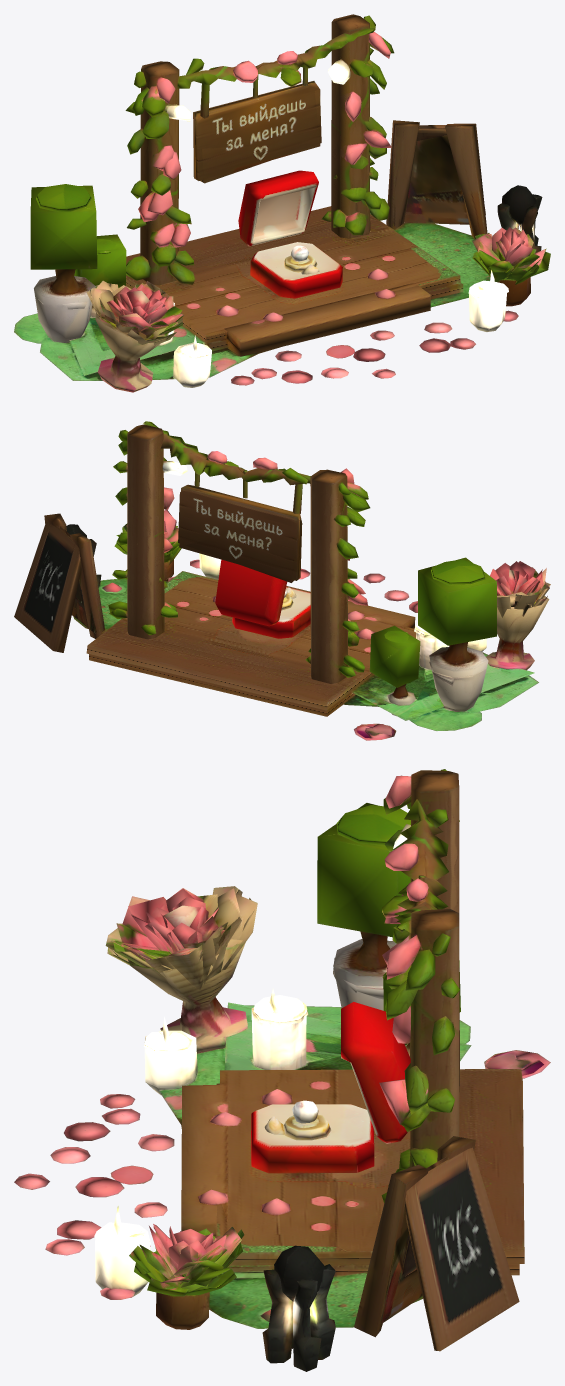
The model's file is Predlozhenie.glb.
The picture shows the model from 3 angles, top to bottom: view 1: azimuth 30°, elevation 25°; view 2: azimuth 150°, elevation 25°; view 3: azimuth 270°, elevation 25°; orthographic projection. The views are drawn at different scales.
Visible parts, largest first — view 1: mesh_node; view 2: mesh_node; view 3: mesh_node.
Part boxes in pixels (x1,y1,x2,y2): mesh_node: (14,14,550,392); mesh_node: (14,421,550,740); mesh_node: (14,769,550,1371).
Size of the model in its own units: 0.9941 by 0.458 by 0.6348.
Materials: 1 (1 with a texture image).
